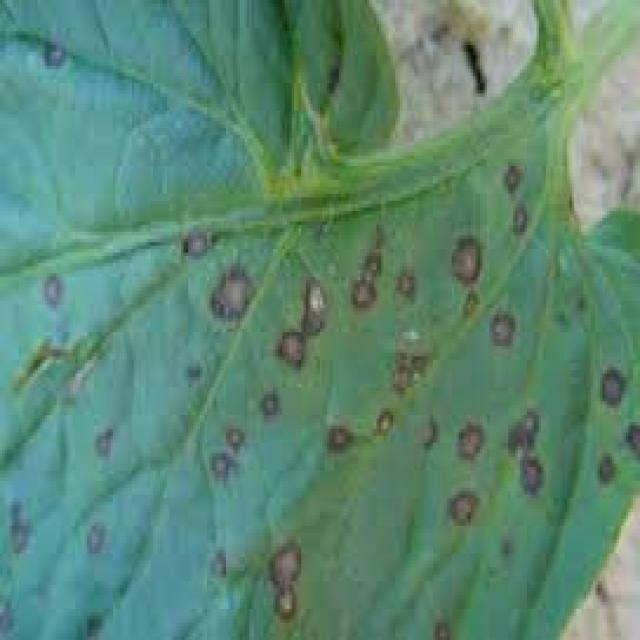Septoria: (9, 173, 640, 640)
